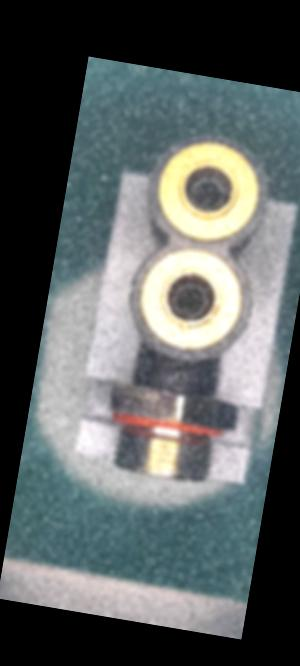craze: (169, 360, 189, 393)
